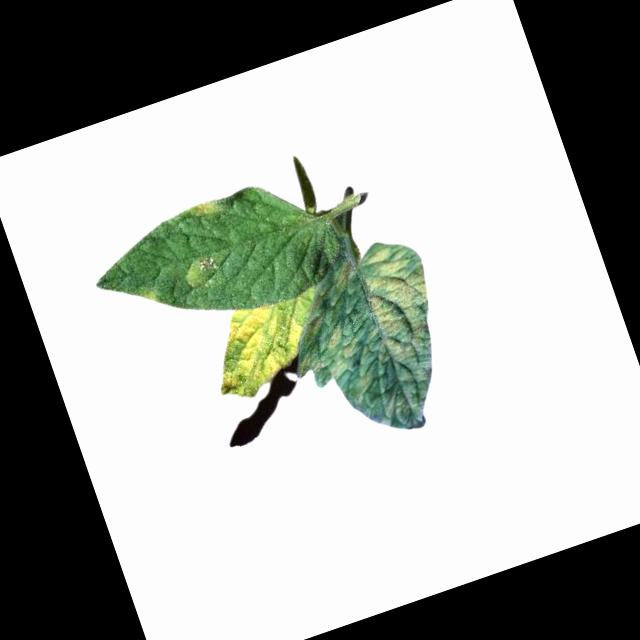Leaf_Mold: (196, 290, 321, 407), (353, 234, 456, 368), (284, 304, 399, 419), (179, 248, 229, 289), (329, 257, 363, 294), (191, 195, 228, 222), (132, 279, 164, 310)
